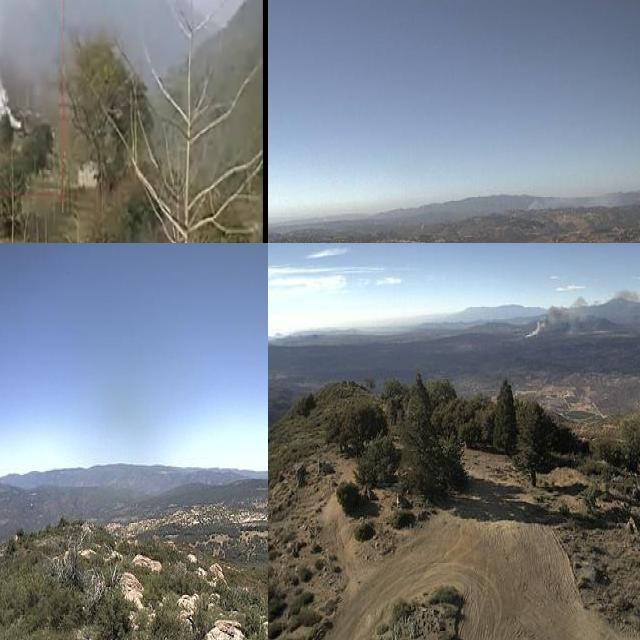smoke: (524, 281, 640, 344), (524, 187, 626, 214)
